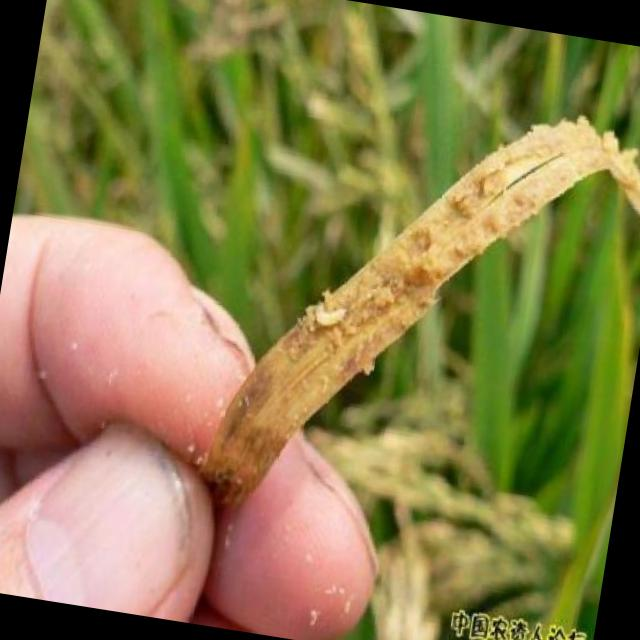whorl-maggot: (306, 293, 358, 342)
